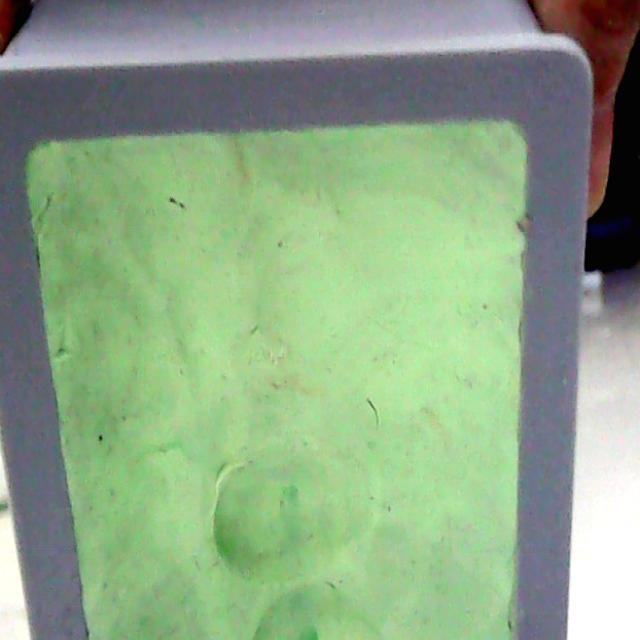block: (0, 12, 585, 639)
